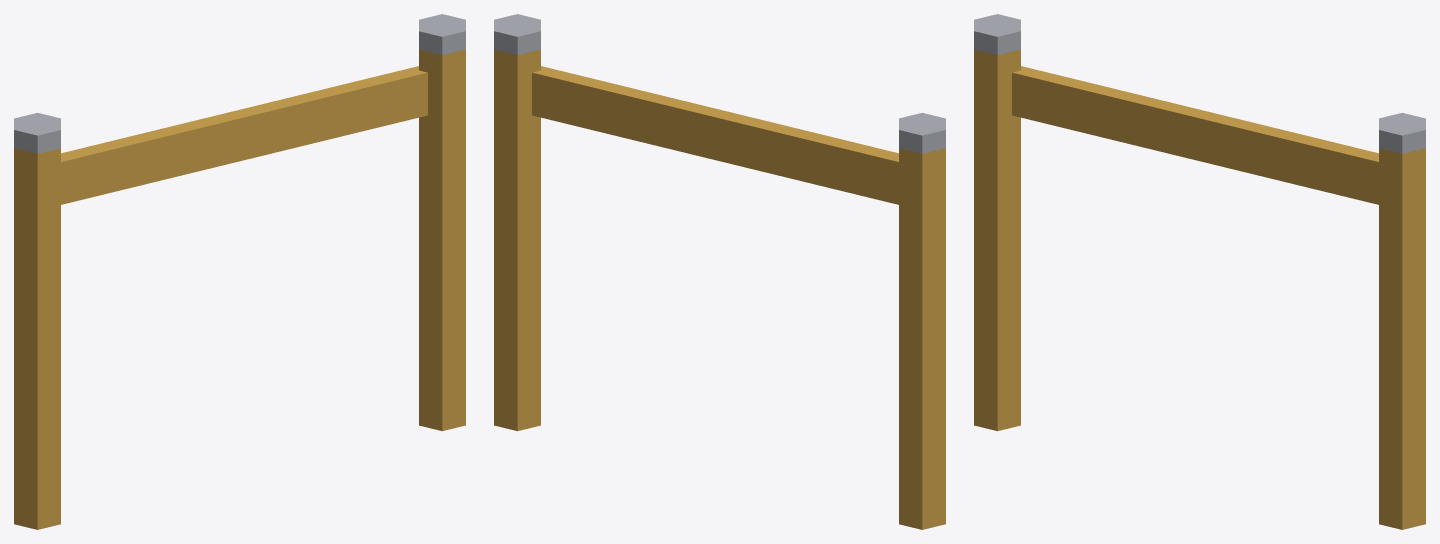
Rendered from SM_Prop_Pole_Barrier_02.fbx.
The picture shows the model from 3 angles, left to right: view 1: azimuth 30°, elevation 25°; view 2: azimuth 150°, elevation 25°; view 3: azimuth 330°, elevation 25°; orthographic projection.
Visible parts, largest first — view 1: SM_Prop_Pole_Barrier_02; view 2: SM_Prop_Pole_Barrier_02; view 3: SM_Prop_Pole_Barrier_02.
Part boxes in pixels (x1,y1,x2,y2): SM_Prop_Pole_Barrier_02: (14,14,465,529); SM_Prop_Pole_Barrier_02: (494,14,945,529); SM_Prop_Pole_Barrier_02: (974,14,1425,529).
Bounding box in the file's own units: 158 × 132 × 14.19.
